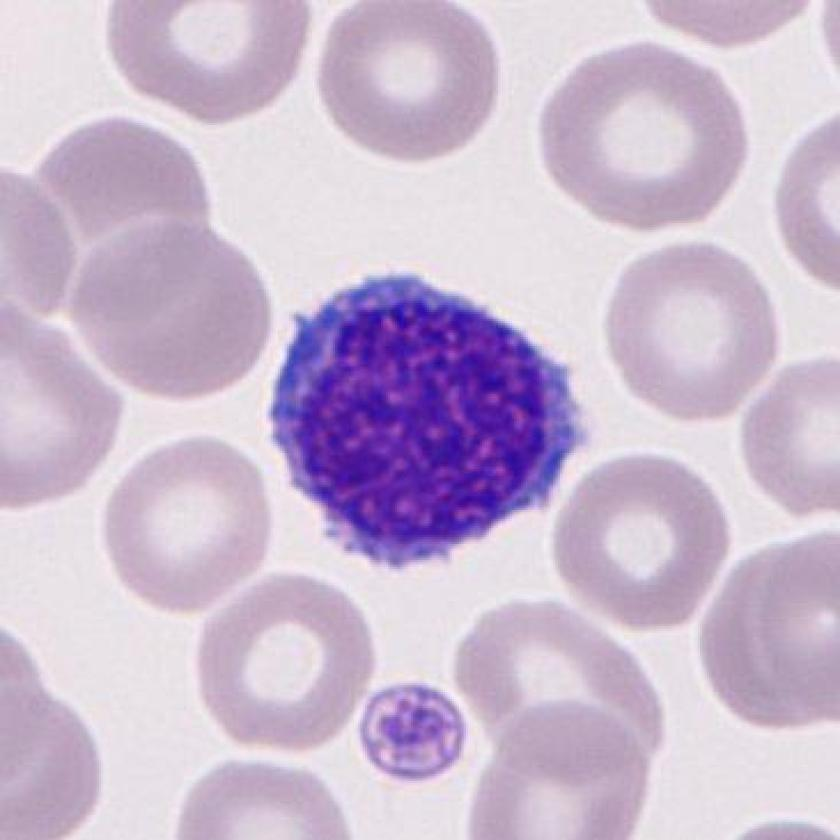lymphocyte: (256, 256, 593, 588)
platelets: (353, 678, 475, 786)
